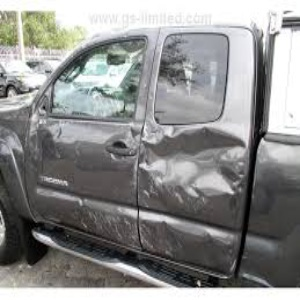door: (49, 128, 239, 241)
